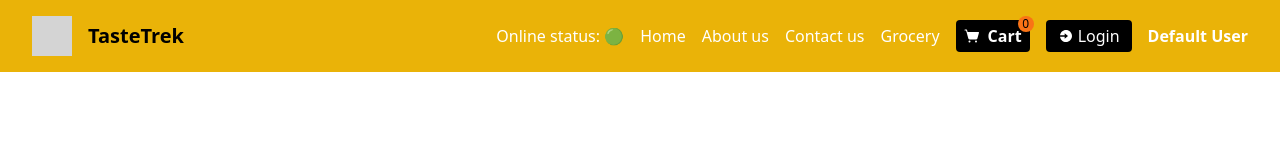
Test: Should Change Login button to Logout in Header component
Step 1. Click the button "Login" → (1089, 36), box [1046,20,1132,52]
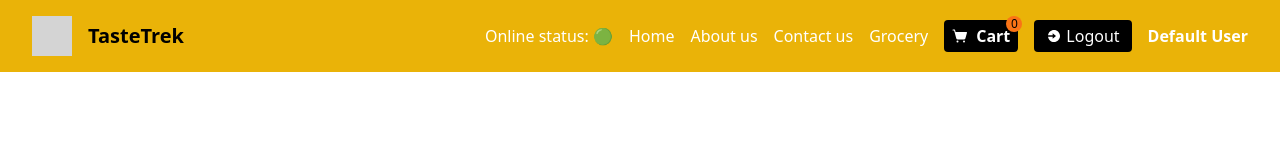
Check: the button "Logout" is shown, box [1034,20,1132,52]
